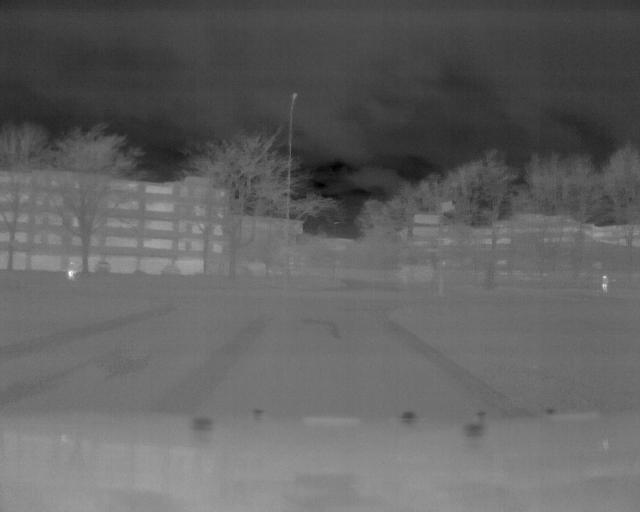person: (67, 258, 74, 280), (601, 272, 607, 293)
